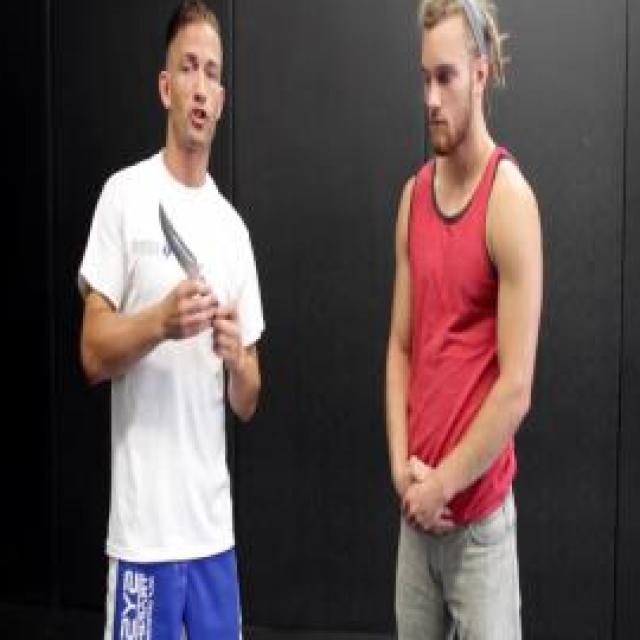knife: (152, 187, 239, 353)
